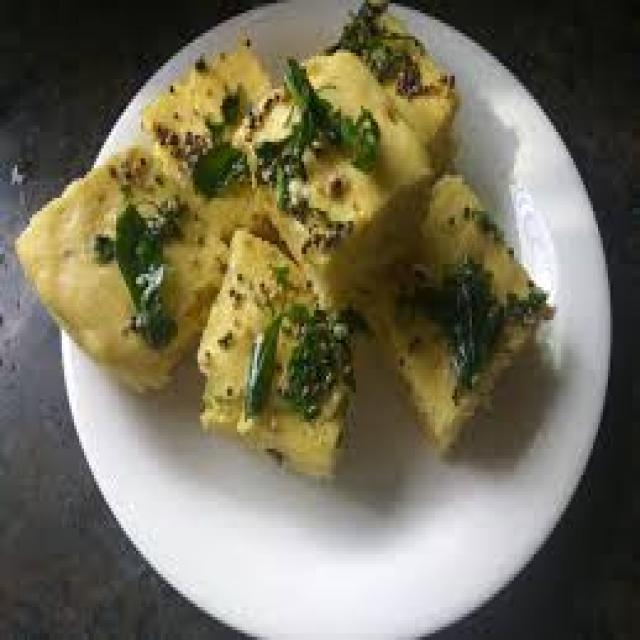DHOKLA: (10, 0, 552, 489)
